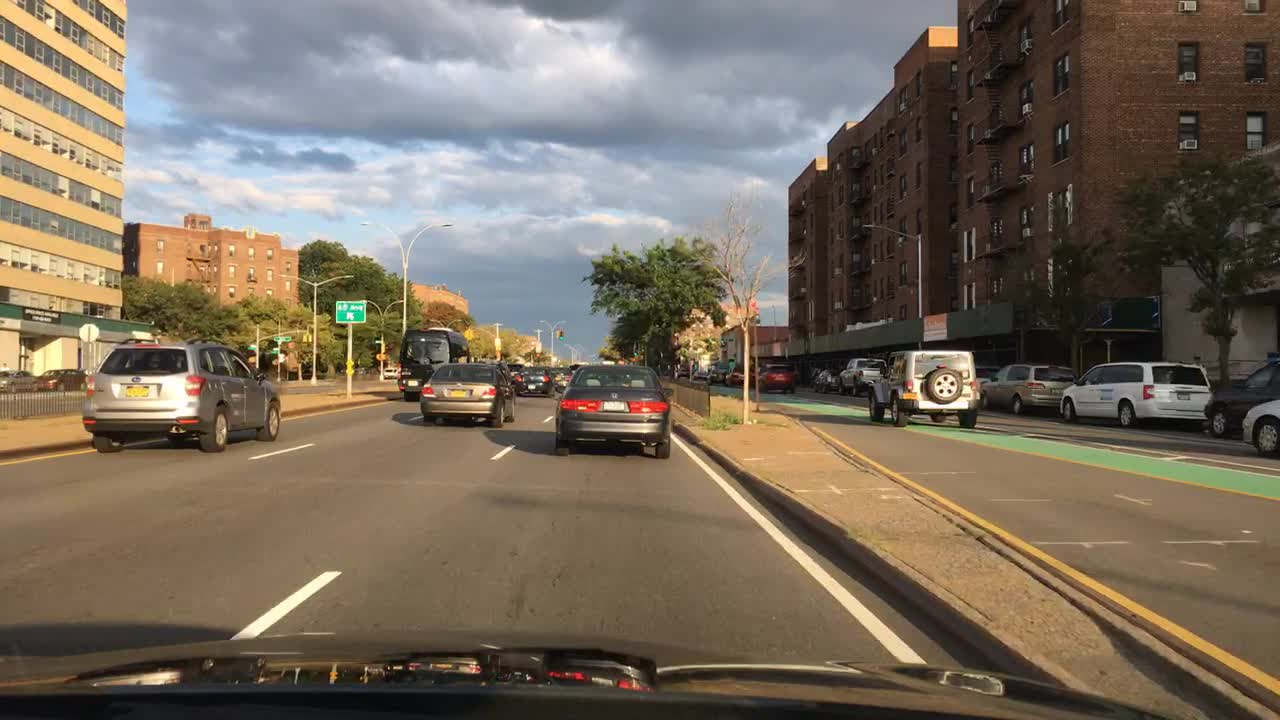car: (81, 336, 281, 453), (553, 362, 673, 459), (1058, 360, 1215, 428), (867, 347, 979, 428), (418, 360, 518, 429), (1202, 355, 1278, 438), (396, 326, 471, 402), (981, 362, 1076, 414), (1239, 397, 1279, 454), (838, 358, 890, 396), (512, 365, 553, 396), (34, 370, 88, 393), (757, 363, 797, 394), (0, 367, 36, 393), (812, 367, 843, 393), (725, 365, 754, 388), (975, 375, 994, 406), (551, 367, 574, 392), (704, 367, 727, 385), (505, 361, 524, 382), (749, 365, 768, 385), (672, 362, 694, 378), (381, 366, 398, 378), (693, 369, 707, 379), (568, 363, 581, 373), (101, 611, 110, 616)
traffic light: (670, 328, 681, 344), (554, 329, 567, 341), (631, 351, 642, 363), (463, 328, 473, 341), (375, 351, 389, 360), (302, 333, 313, 344), (495, 349, 503, 358)
traffic sign: (333, 301, 368, 323), (77, 322, 101, 344), (272, 336, 292, 342), (494, 336, 502, 347), (345, 367, 354, 376), (247, 345, 258, 352), (344, 359, 355, 366), (273, 346, 281, 353)
